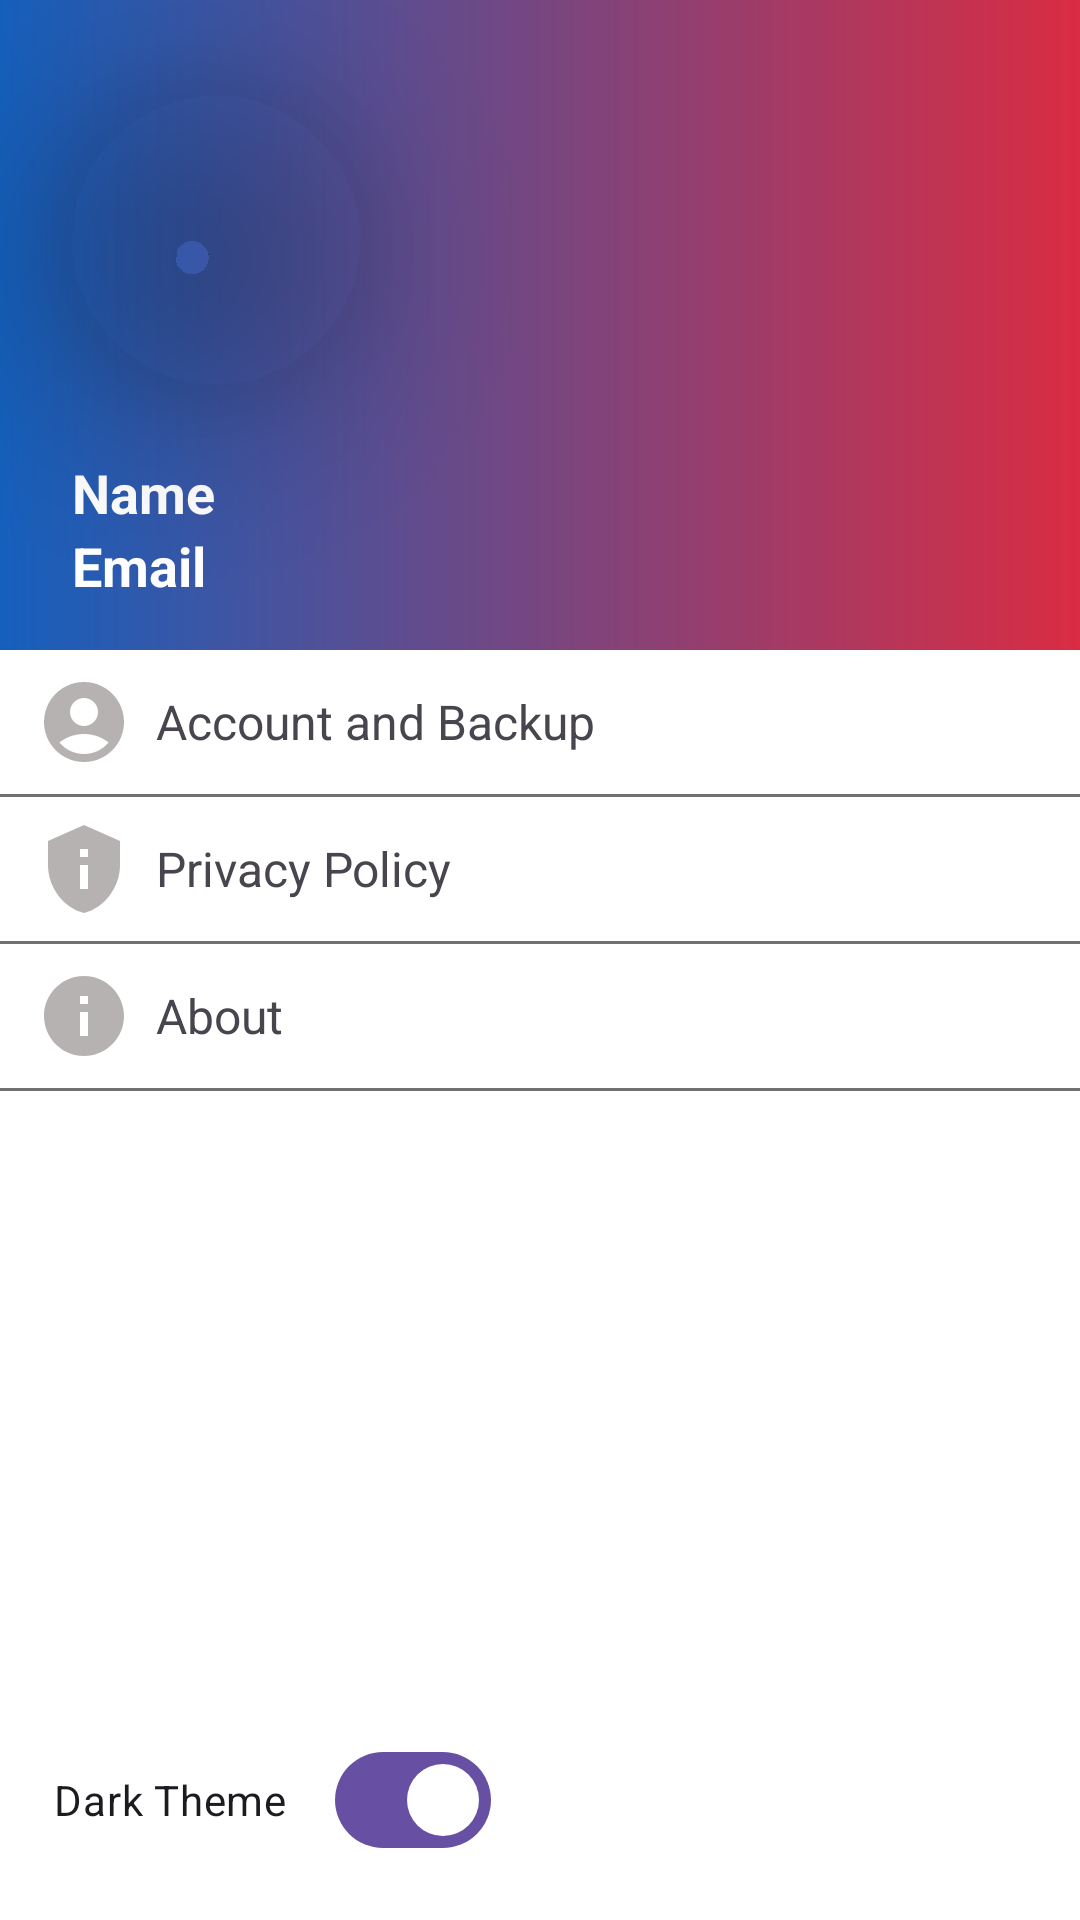

Named icons in this screenshot (1080*1920) and their bounding boxes, bbox=[x1, y1, x2, y2]:
profile: bbox=[44, 682, 124, 762]
